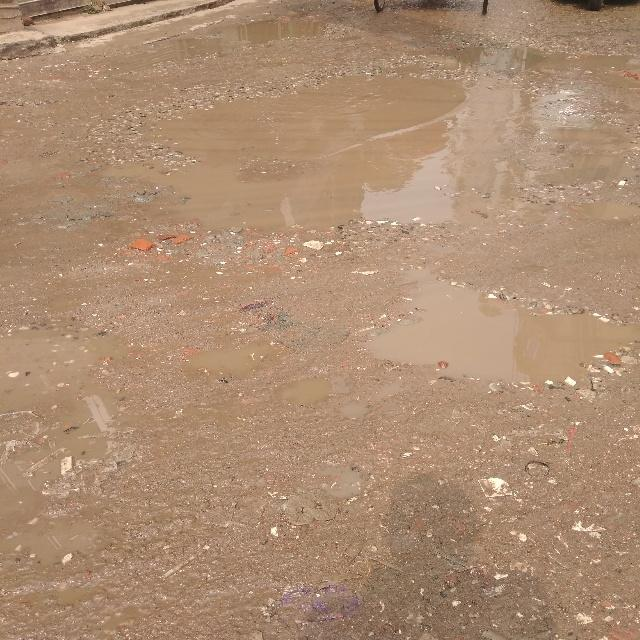Pothole: (225, 93, 440, 235), (434, 284, 548, 368)
Surface Erosion: (1, 3, 635, 636)
